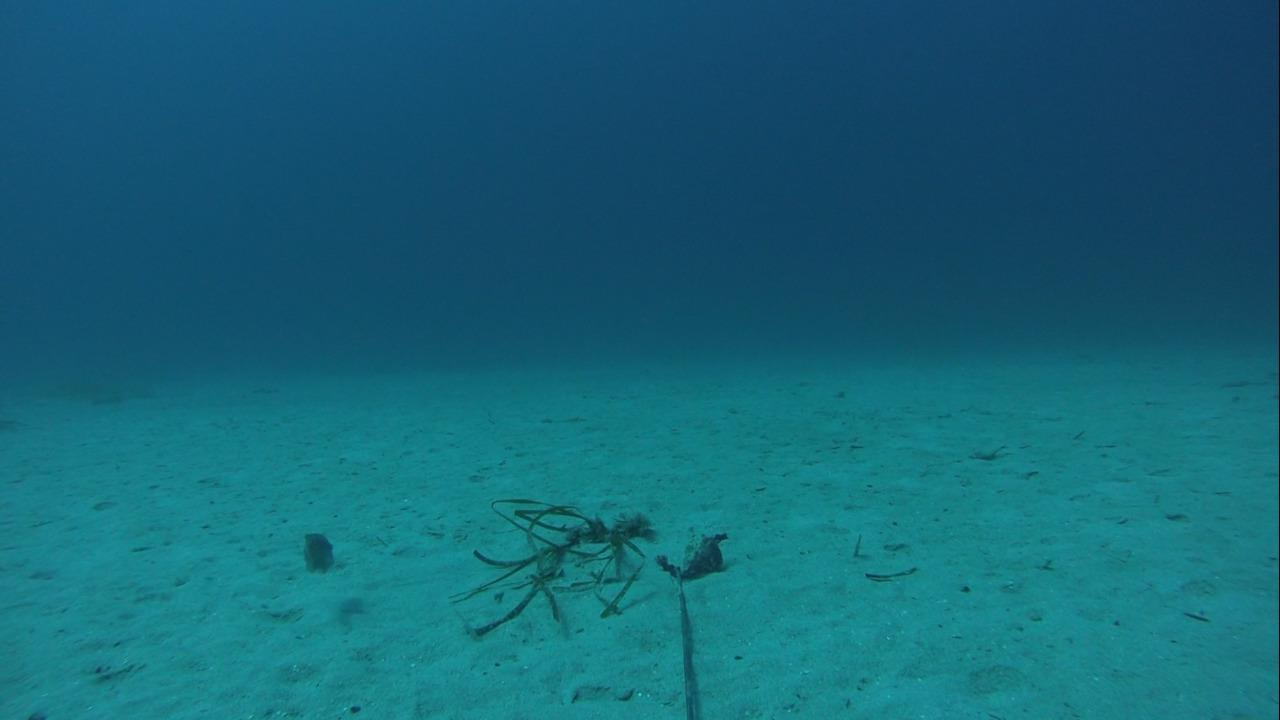raor: (289, 524, 346, 579)
